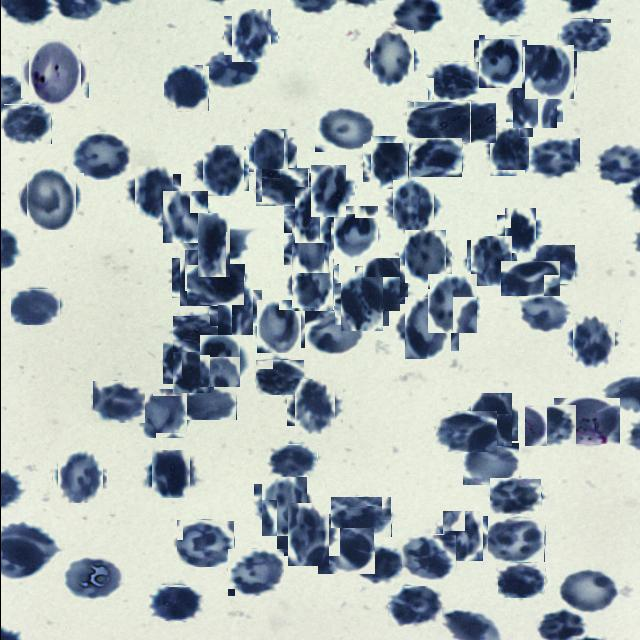red blood cell: (22, 170, 80, 227), (399, 301, 454, 355), (556, 568, 619, 615), (424, 277, 478, 331), (70, 132, 130, 180), (314, 106, 376, 152), (63, 554, 125, 600), (256, 480, 310, 532), (176, 520, 234, 568), (304, 312, 364, 358), (281, 509, 334, 561), (227, 548, 284, 596), (166, 337, 218, 389), (523, 46, 575, 98), (406, 101, 470, 143), (486, 516, 544, 562), (366, 32, 416, 84), (317, 528, 373, 574), (401, 534, 456, 580), (435, 411, 496, 452), (330, 496, 391, 537), (508, 75, 558, 125), (54, 452, 104, 501), (336, 280, 386, 329), (160, 192, 209, 241), (330, 208, 380, 256), (138, 388, 186, 438), (186, 264, 244, 305), (462, 443, 518, 485), (254, 302, 302, 351), (569, 318, 617, 366), (389, 183, 437, 231), (476, 38, 524, 86), (290, 382, 338, 430), (190, 222, 238, 270), (438, 103, 495, 143), (202, 49, 259, 89), (467, 396, 514, 444), (198, 147, 246, 194), (401, 233, 448, 281), (175, 255, 223, 302), (387, 586, 441, 627), (195, 338, 242, 385), (226, 12, 274, 58), (92, 381, 144, 423), (524, 404, 576, 446), (130, 170, 176, 217), (288, 262, 335, 308), (518, 296, 572, 336), (500, 260, 560, 296), (408, 137, 462, 177), (528, 138, 579, 180), (488, 128, 534, 174), (438, 513, 484, 559), (468, 238, 514, 284), (288, 192, 334, 238), (366, 140, 411, 186), (162, 66, 208, 111), (358, 262, 403, 308), (427, 61, 480, 100), (254, 168, 308, 206), (287, 224, 332, 269), (148, 586, 203, 622), (212, 286, 256, 331), (170, 316, 224, 352), (306, 168, 350, 212), (3, 104, 51, 144), (148, 453, 192, 496), (489, 478, 541, 514), (181, 386, 236, 420), (10, 288, 60, 325), (249, 133, 292, 176), (254, 359, 304, 395), (352, 548, 402, 584), (558, 18, 611, 51), (496, 562, 544, 598), (268, 444, 317, 479), (535, 244, 575, 284), (500, 212, 538, 250)
ring: (24, 42, 84, 102), (553, 398, 619, 444)
